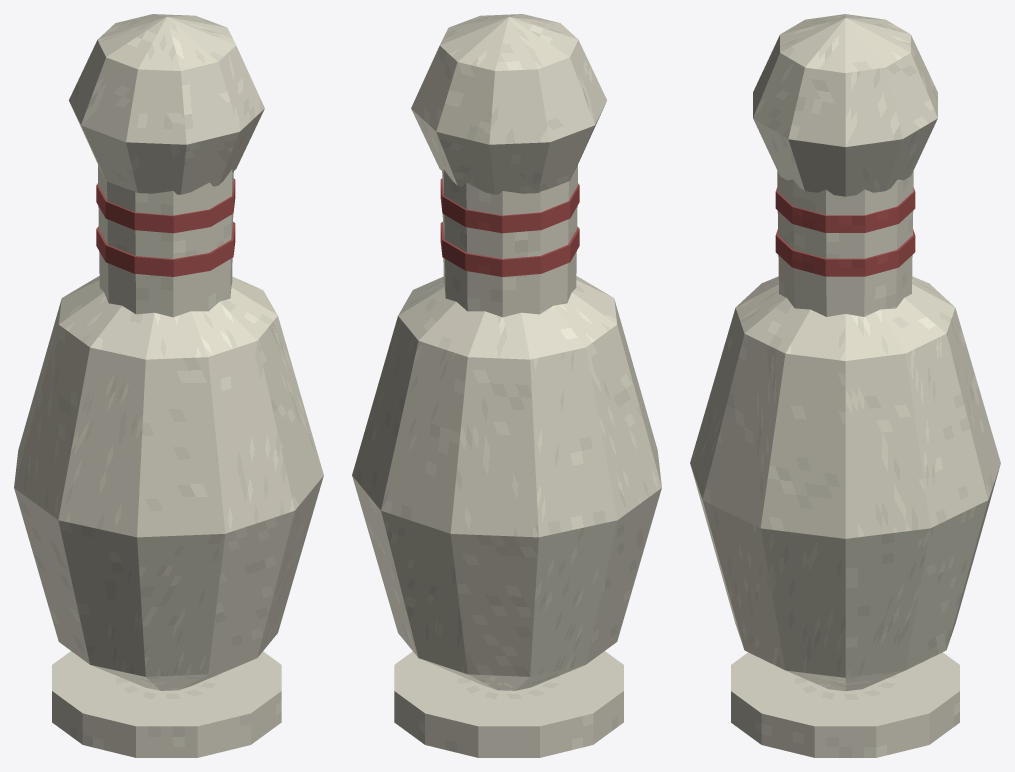
File: bowling_pin.glb
3 views of the same model, side by side, from view 1: azimuth 30°, elevation 25°; view 2: azimuth 150°, elevation 25°; view 3: azimuth 270°, elevation 25° (orthographic).
Visible parts, largest first — view 1: block_bowling pin body, block_bowling pin head, block_bowling pin sole, block_narrow neck, block_red neck stripe (×2); view 2: block_bowling pin body, block_bowling pin head, block_bowling pin sole, block_narrow neck, block_red neck stripe (×2); view 3: block_bowling pin body, block_bowling pin head, block_bowling pin sole, block_narrow neck, block_red neck stripe (×2).
Part boxes in pixels (bbox=[...]): block_bowling pin body: bbox=[14, 276, 323, 690]; block_bowling pin head: bbox=[69, 14, 264, 194]; block_bowling pin sole: bbox=[52, 651, 281, 757]; block_narrow neck: bbox=[98, 165, 233, 317]; block_red neck stripe (×2): bbox=[96, 178, 235, 276]; block_bowling pin body: bbox=[352, 276, 661, 690]; block_bowling pin head: bbox=[411, 14, 606, 194]; block_bowling pin sole: bbox=[394, 651, 623, 757]; block_narrow neck: bbox=[442, 165, 577, 317]; block_red neck stripe (×2): bbox=[440, 178, 579, 276]; block_bowling pin body: bbox=[690, 276, 1000, 691]; block_bowling pin head: bbox=[753, 14, 937, 196]; block_bowling pin sole: bbox=[731, 652, 959, 757]; block_narrow neck: bbox=[777, 171, 913, 316]; block_red neck stripe (×2): bbox=[775, 187, 915, 276].
Size of the model in its own units: 0.1613 by 0.4 by 0.163.
1 material, 1 textured.
